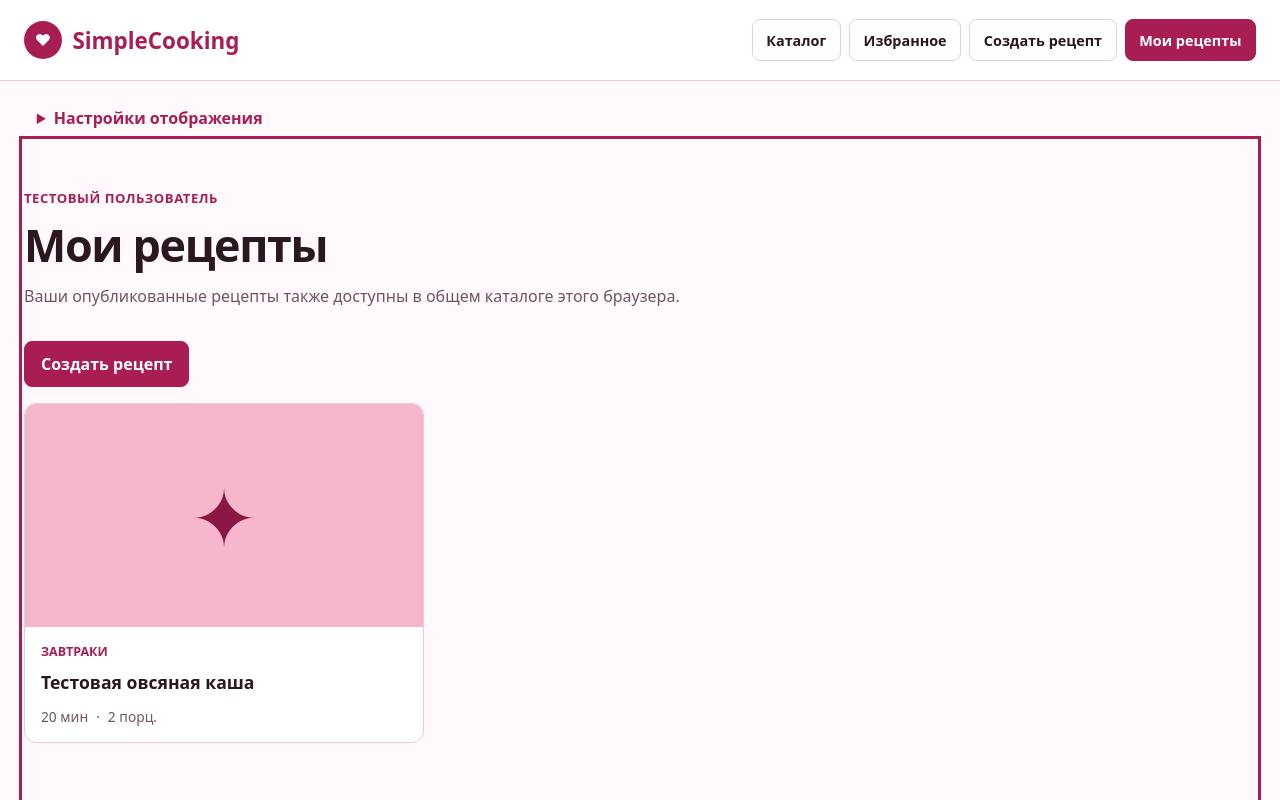
it: Публикация в общем приложении › профиль отбирает свои рецепты, каталог показывает всех авторов
The image size is (1280, 800).
Expected: the link "✦ Завтраки Тестовая овсяная каша 20 мин · 2 порц." is shown, [25,404,423,742]
Expected: the link "Рецепт другого автора" is not shown
Click the link "Каталог".
click(796, 40)  # box [752,19,841,61]
(page scrolled)
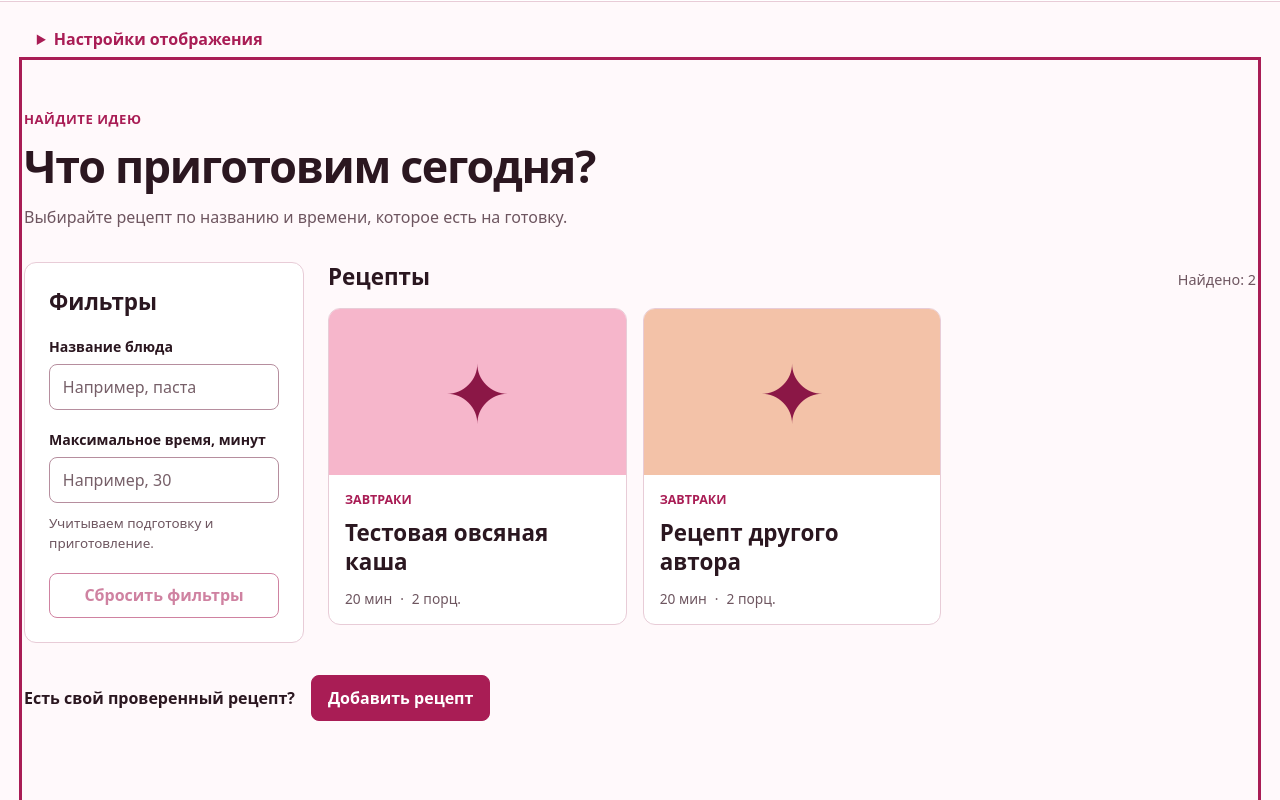
Expected: the link "✦ Завтраки Рецепт другого автора 20 мин · 2 порц." is shown, [644,309,940,624]
